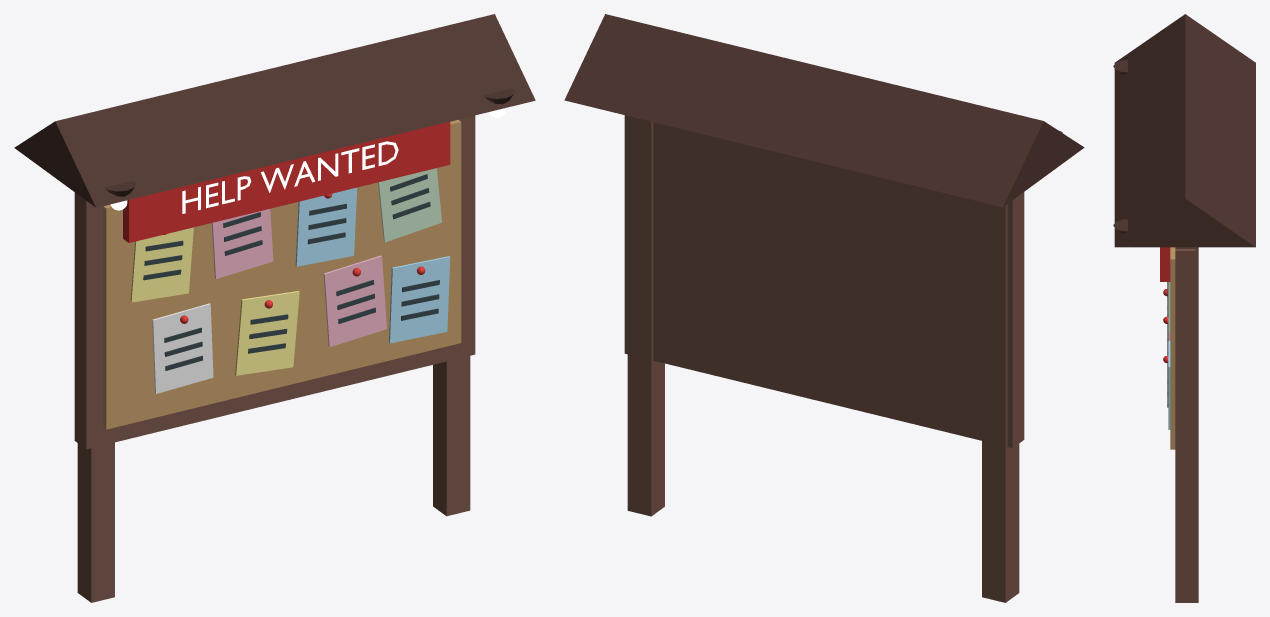
File: hustle_jobboard.glb
3 renders of one model, left to right at view 1: azimuth 30°, elevation 25°; view 2: azimuth 150°, elevation 25°; view 3: azimuth 270°, elevation 25°, orthographic. The views are drawn at different scales.
Parts seen in each view (by area): view 1: JobBoard_body; view 2: JobBoard_body; view 3: JobBoard_body.
Boxes of the visible parts, x1,y1,x2,y2 form: JobBoard_body: [14, 14, 535, 602]; JobBoard_body: [564, 14, 1084, 602]; JobBoard_body: [1113, 14, 1255, 602].
Size of the model in its own units: 2.6 by 2.74 by 0.85.
